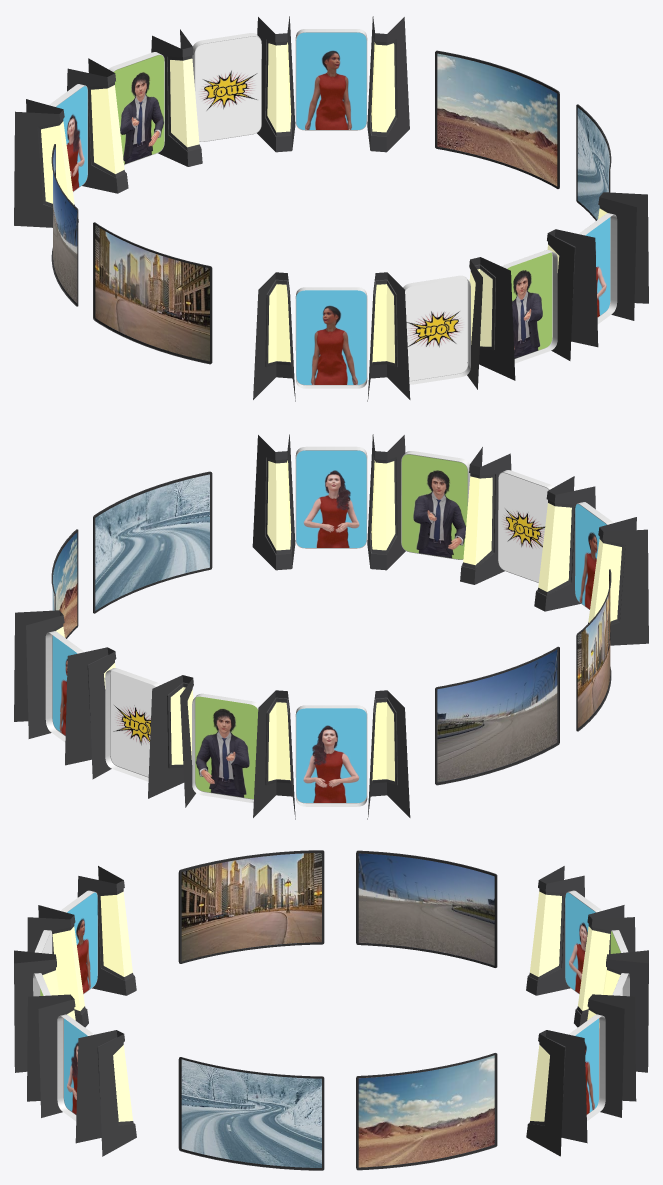
Rendered from avatar-studio.glb.
The picture shows the model from 3 angles, top to bottom: view 1: azimuth 30°, elevation 25°; view 2: azimuth 150°, elevation 25°; view 3: azimuth 270°, elevation 25°; orthographic projection. The views are drawn at different scales.
Visible parts, largest first — view 1: tv3, tv1, tv-portrait-d, tv-portrait-h, tv-portrait-c, tv-portrait-g, Column1, Column7, Column8, tv-portrait-b, tv-portrait-f, Column5 (+10 smaller); view 2: tv2, tv4, tv-portrait-e, tv-portrait-a, tv-portrait-f, tv-portrait-b, Column10, Column4, Column3, tv-portrait-g, tv-portrait-c, Column6 (+10 smaller); view 3: tv4, tv1, tv3, tv2, Column5, Column6, Column1, Column10, Column4, Column7, Column2, Column9 (+6 smaller).
Boxes of the visible parts, x1,y1,x2,y2 form: tv3: [435, 50, 559, 188]; tv1: [93, 222, 212, 364]; tv-portrait-d: [295, 29, 367, 130]; tv-portrait-h: [295, 287, 367, 388]; tv-portrait-c: [192, 33, 261, 141]; tv-portrait-g: [403, 275, 470, 384]; Column1: [14, 99, 78, 227]; Column7: [547, 229, 598, 360]; Column8: [467, 257, 515, 389]; tv-portrait-b: [108, 52, 164, 164]; tv-portrait-f: [502, 250, 557, 363]; Column5: [367, 16, 409, 152]; tv2: [435, 646, 559, 785]; tv4: [93, 471, 212, 613]; tv-portrait-e: [295, 446, 367, 548]; tv-portrait-a: [295, 705, 367, 806]; tv-portrait-f: [401, 451, 470, 559]; tv-portrait-b: [192, 693, 259, 802]; Column10: [586, 517, 648, 645]; Column4: [65, 647, 116, 779]; Column3: [148, 675, 195, 807]; tv-portrait-g: [498, 470, 553, 582]; tv-portrait-c: [105, 668, 160, 781]; Column6: [252, 434, 295, 570]; tv4: [178, 1057, 324, 1170]; tv1: [178, 850, 324, 963]; tv3: [356, 1053, 497, 1170]; tv2: [356, 850, 497, 967]; Column5: [526, 1030, 587, 1156]; Column6: [75, 1030, 136, 1156]; Column1: [526, 866, 584, 995]; Column10: [77, 866, 136, 995]; Column4: [587, 994, 636, 1117]; Column7: [27, 994, 75, 1117]; Column2: [574, 905, 635, 1027]; Column9: [27, 905, 88, 1027].
Bounding box in the file's own units: 10.99 × 2.42 × 13.
25 materials, 12 textured.
